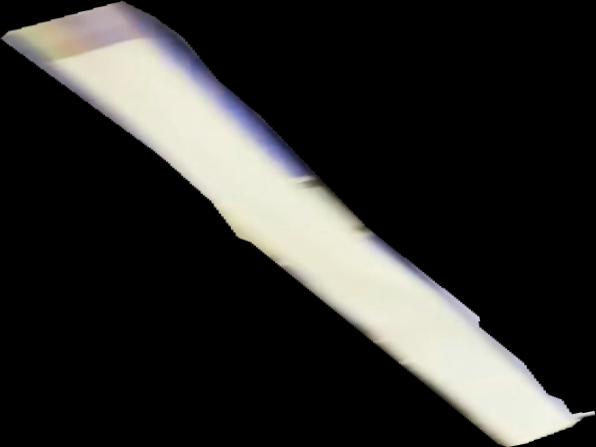backward: (1, 1, 596, 447)
